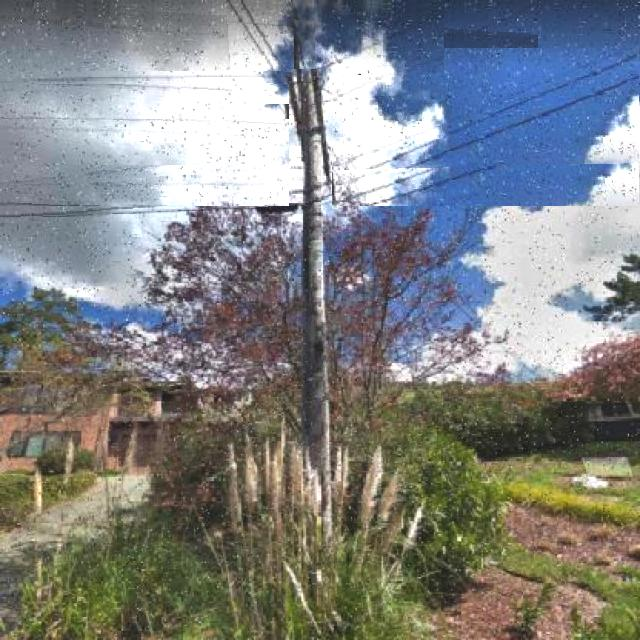pole: (290, 69, 332, 510)
wire: (8, 79, 602, 218), (5, 88, 639, 206), (0, 28, 538, 119), (330, 48, 639, 170), (315, 7, 444, 75), (226, 1, 294, 100), (0, 165, 213, 186), (240, 1, 291, 83), (1, 71, 296, 84)
